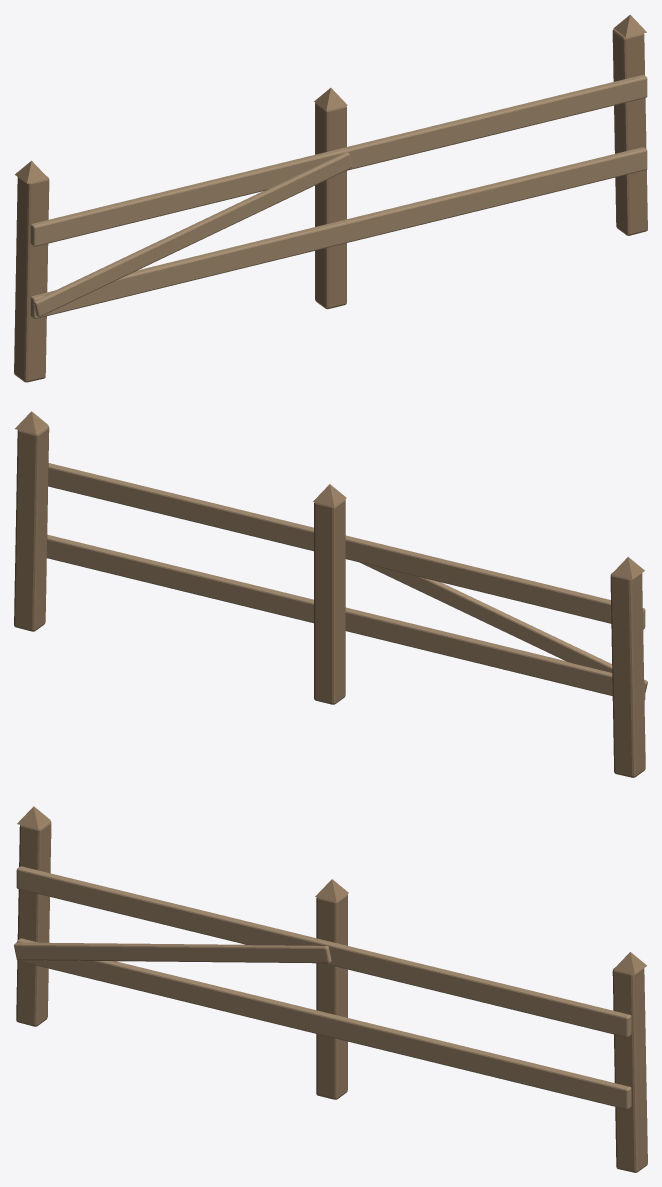
The model's file is fence.glb.
The picture shows the model from 3 angles, top to bottom: view 1: azimuth 30°, elevation 25°; view 2: azimuth 150°, elevation 25°; view 3: azimuth 330°, elevation 25°; orthographic projection.
Parts seen in each view (by area): view 1: fence; view 2: fence; view 3: fence.
Boxes of the visible parts, x1=… form: fence: x1=14, y1=14, x2=647, y2=382; fence: x1=14, y1=411, x2=647, y2=777; fence: x1=14, y1=806, x2=647, y2=1172.
Size of the model in its own units: 4.06 by 1.35 by 0.2108.
